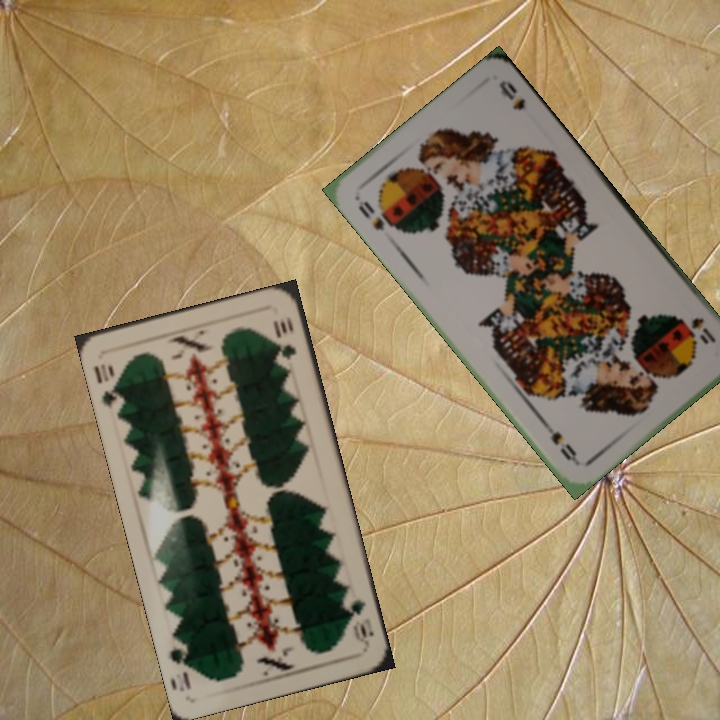G10: (90, 360, 127, 412), (344, 595, 372, 648)
SO: (676, 313, 719, 347), (354, 197, 387, 234)
